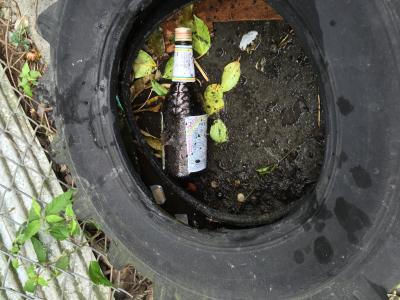bottle: (150, 19, 228, 188)
tire: (51, 1, 394, 297)
